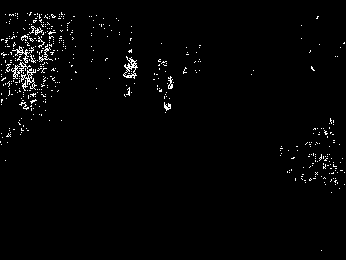person: (153, 57, 175, 114), (123, 50, 137, 97)
